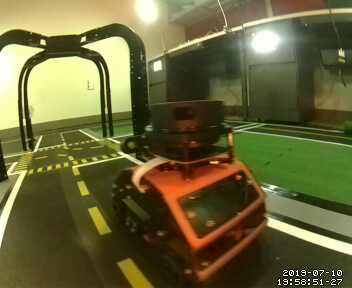pheeno: (108, 98, 270, 285)
